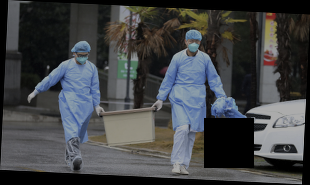with_mask: (186, 39, 200, 53), (74, 53, 89, 65)
